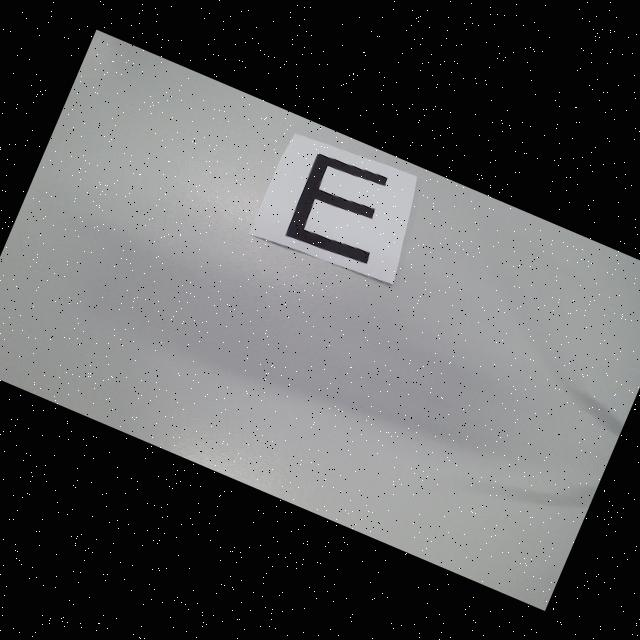FAKE: (283, 148, 401, 270)
